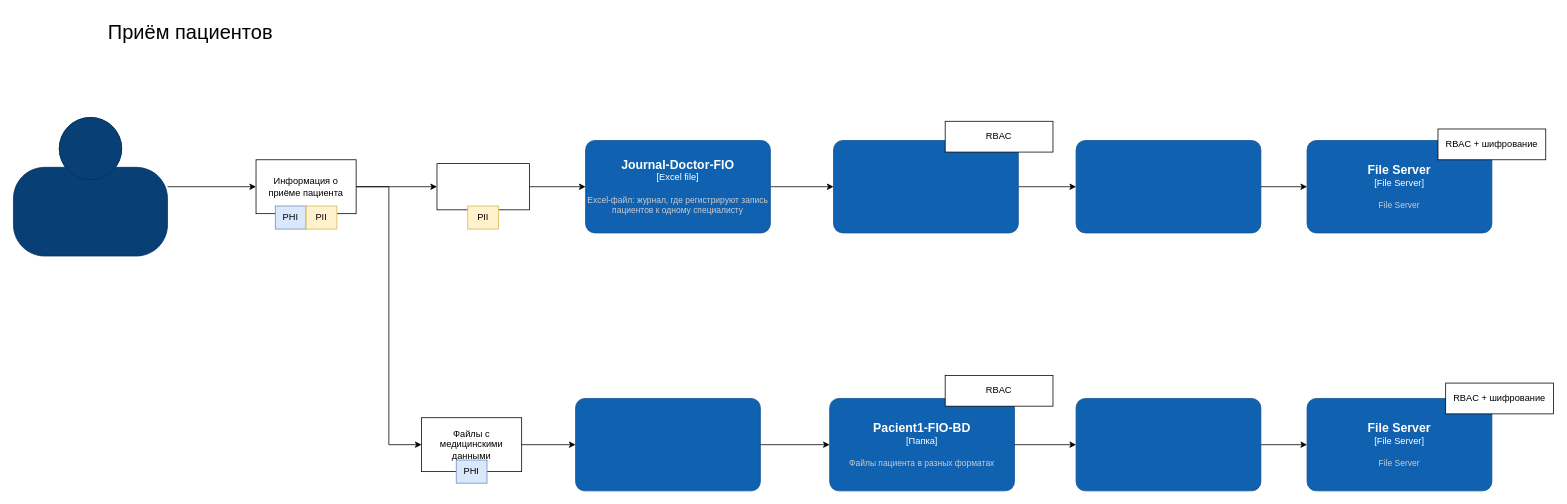
Some shapes in this 1567 by 504 pixel diagram are drawn without their labels. The centre of each missing label's shape, as x and y in pixels:
Data file 1 [Any file] Файлы пациента в разных форматах: (667,444)
Doctor [Person] Специалист-медик: (90,186)
File System [File System] File System: (1168,186)
Journals [Folder] Папка: (925,186)
Pacients [Папка] Файлы пациента в разных форматах: (1168,444)
Изменение статуса записи в журнале приёма: (482,186)
